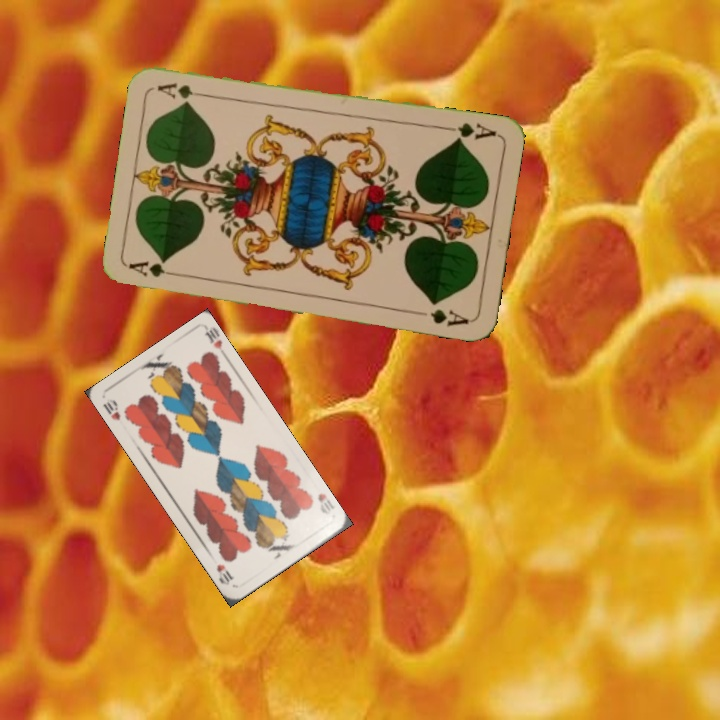GA: (440, 118, 499, 144), (126, 257, 185, 280)
H10: (99, 394, 123, 423), (313, 489, 336, 517)
